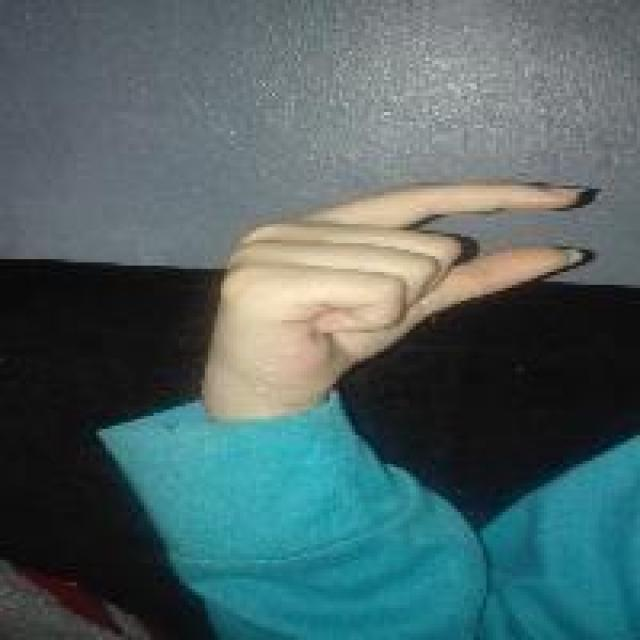G: (196, 176, 598, 381)
